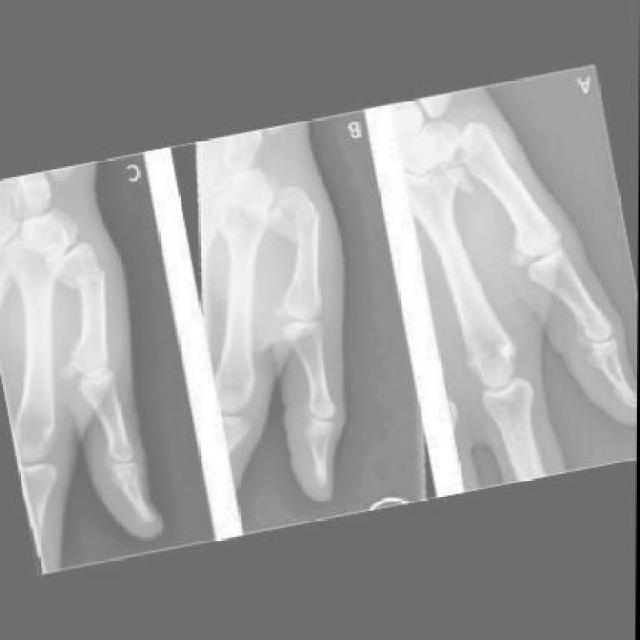Fracture: (49, 243, 114, 309), (435, 135, 496, 203), (268, 190, 329, 253)
